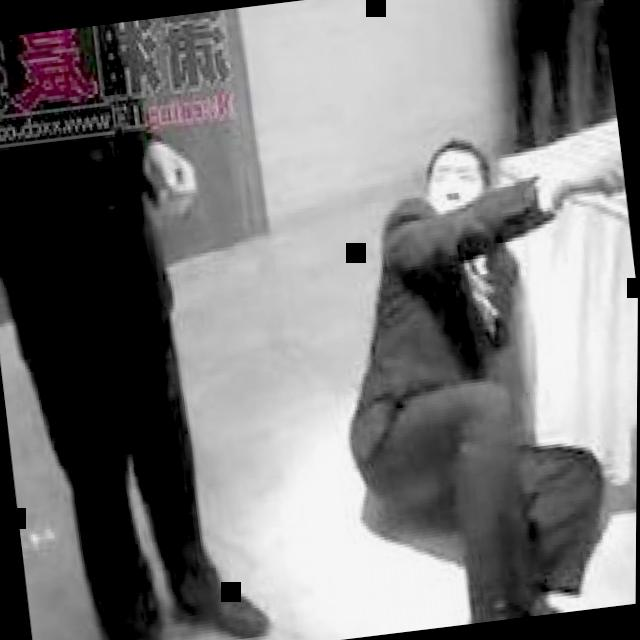Fall-Detected: (297, 85, 640, 637)
